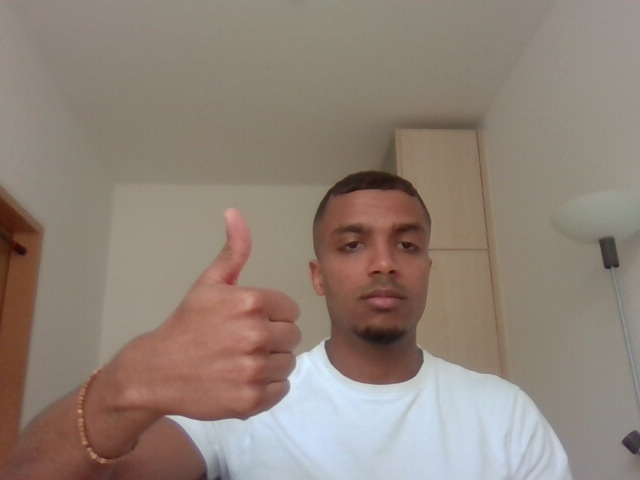yes: (117, 197, 310, 442)
